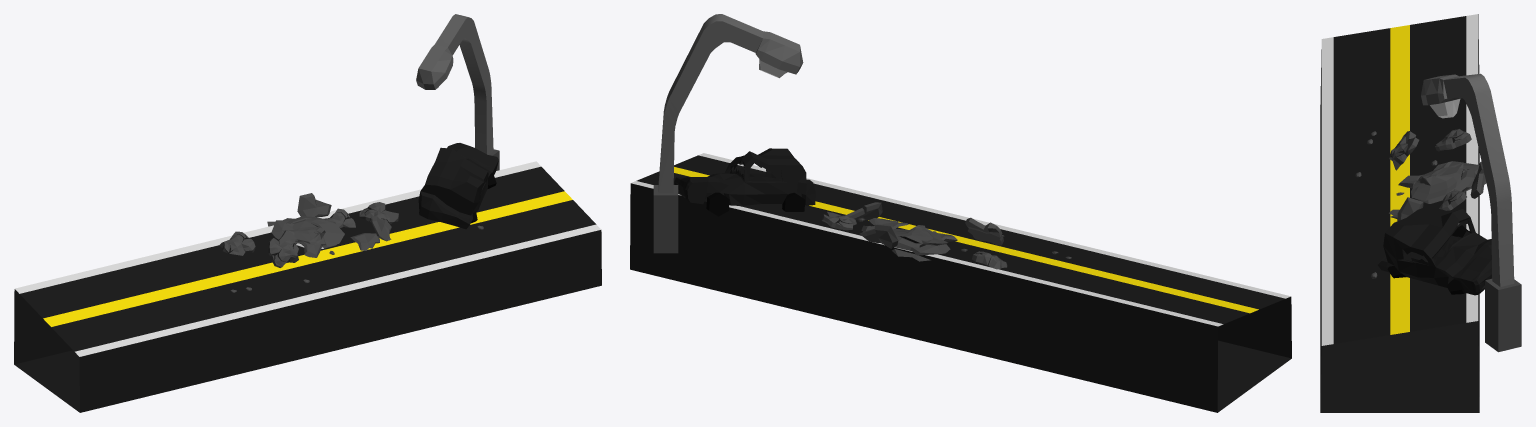
File: hospital@road.FBX
The picture shows the model from 3 angles, left to right: view 1: azimuth 30°, elevation 25°; view 2: azimuth 150°, elevation 25°; view 3: azimuth 270°, elevation 25°; orthographic projection. The views are drawn at different scales.
Visible parts, largest first — view 1: Box003; view 2: Box003; view 3: Box003.
Part boxes in pixels (<box>): Box003: <box>14,14,601,412</box>; Box003: <box>630,14,1291,412</box>; Box003: <box>1320,14,1521,412</box>.
Size of the model in its own units: 155 by 68.28 by 42.8.
